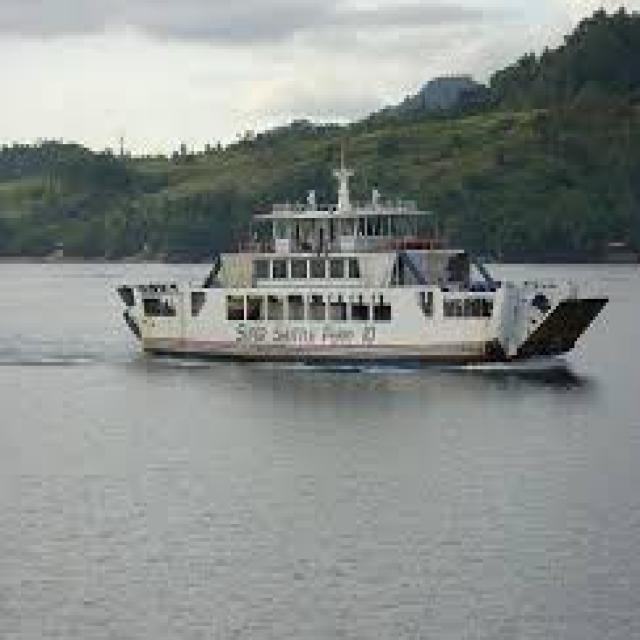passenger ship: (106, 164, 576, 368)
